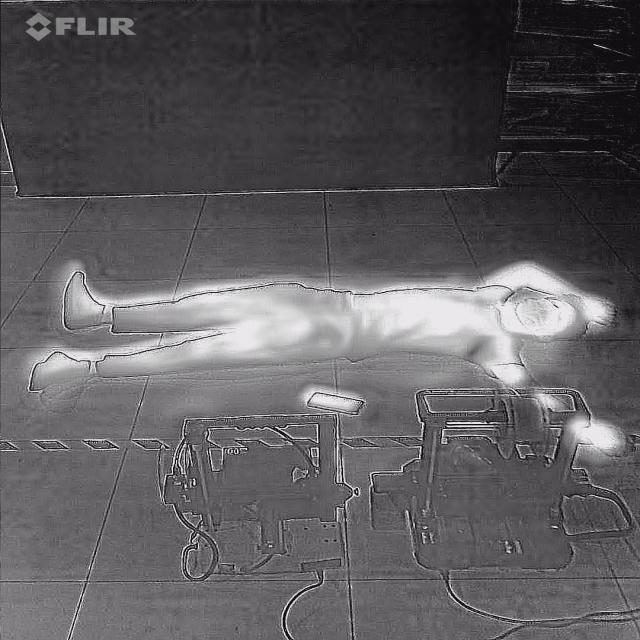Victim: (21, 258, 634, 462)
